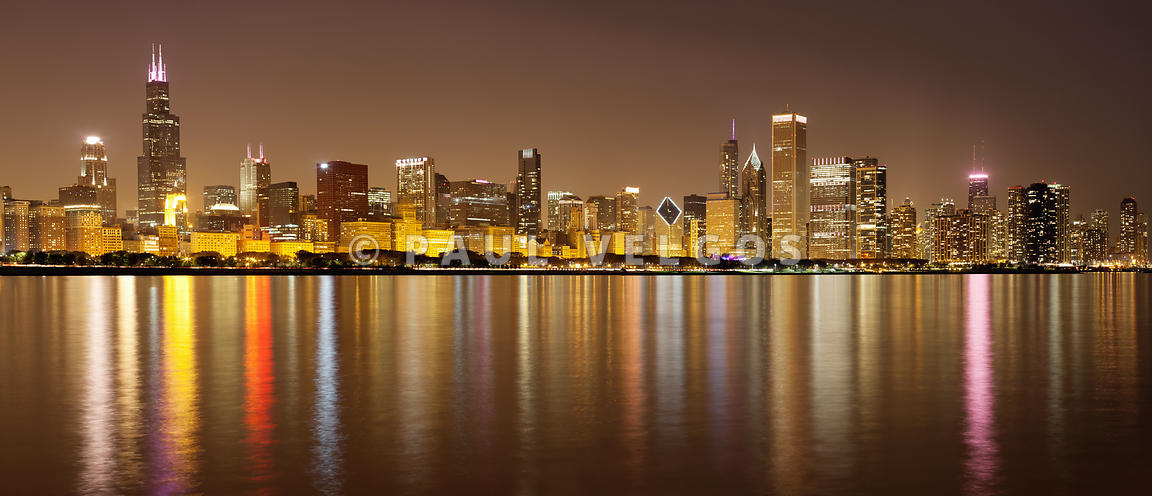willis: (127, 34, 191, 194)
